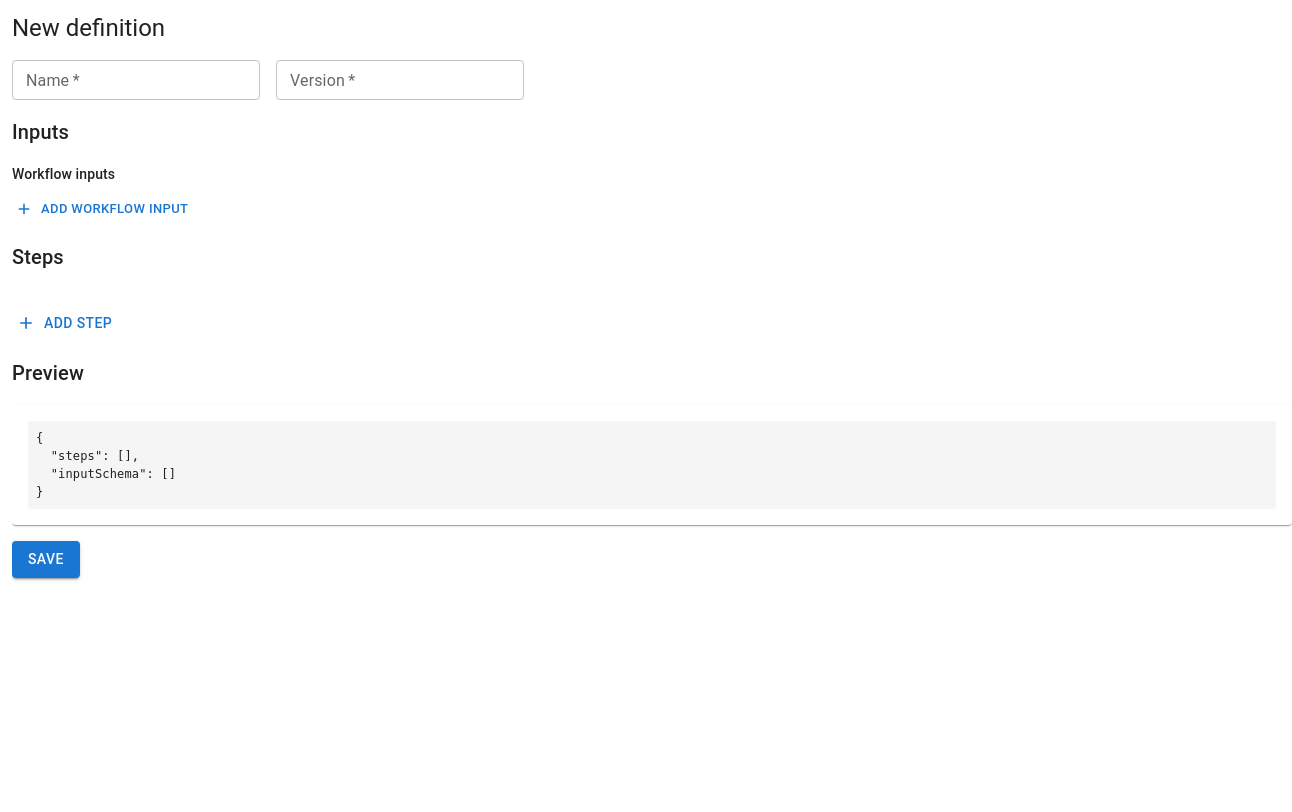
Scenario: DefinitionEditor › blocks Save and shows inline errors when required fields are empty
The image size is (1292, 812).
Click the button "Save": (46, 559) [12, 541, 80, 578]
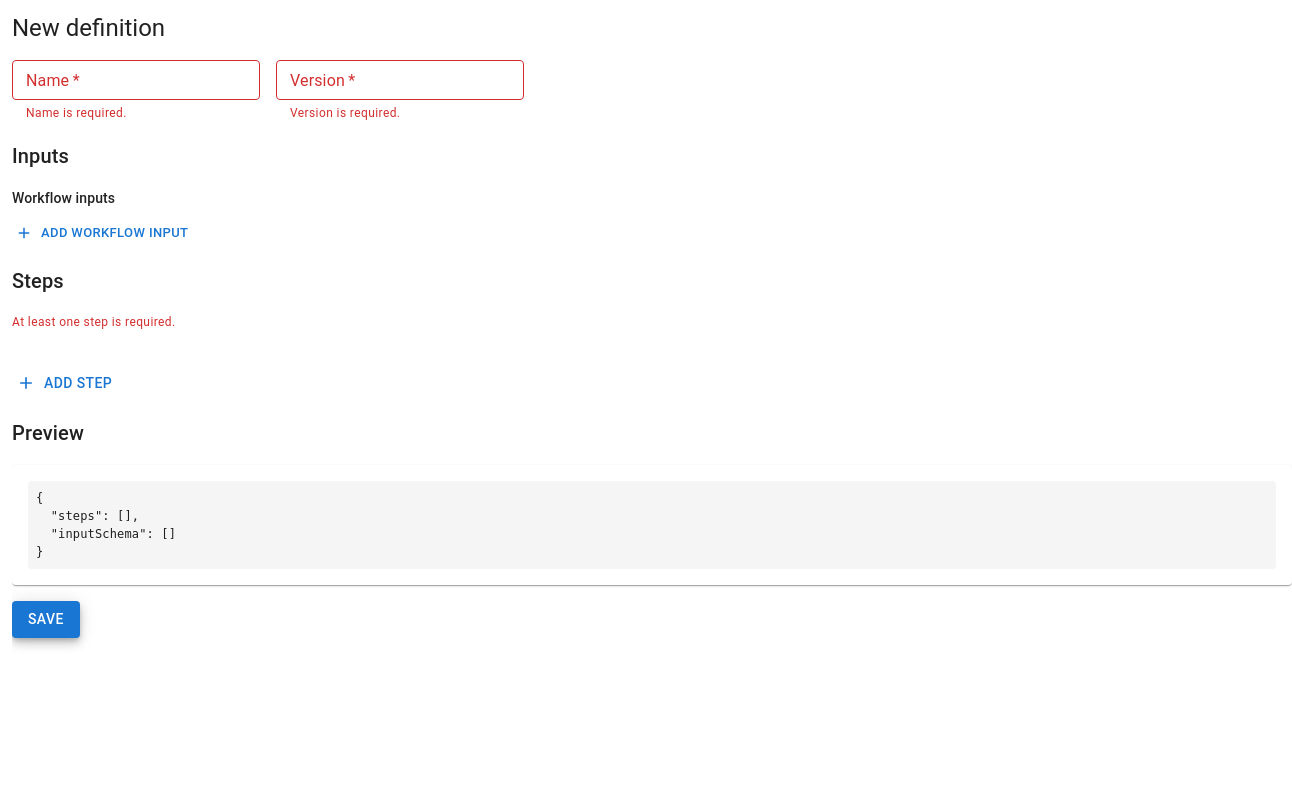
Expected: the text "Name is required." is shown, [26, 106, 127, 120]
Expected: the text "Version is required." is shown, [290, 106, 400, 120]
Expected: the text "At least one step is required." is shown, [12, 315, 176, 329]
